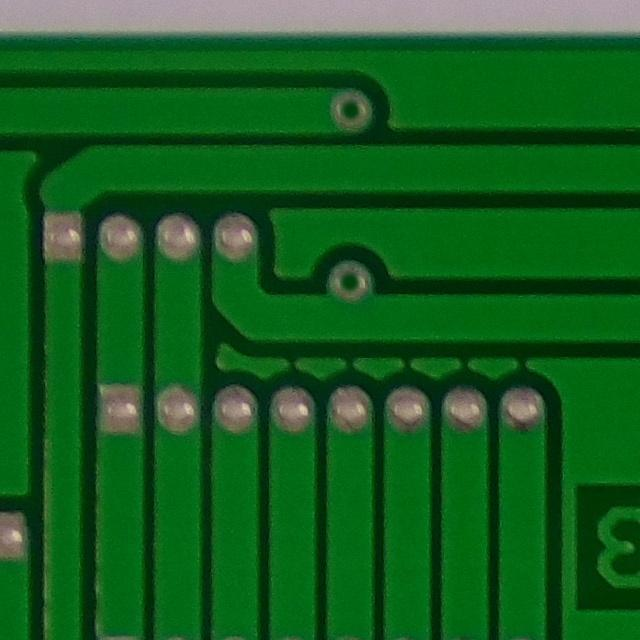missing_hole: (311, 251, 384, 306), (319, 82, 381, 137)
